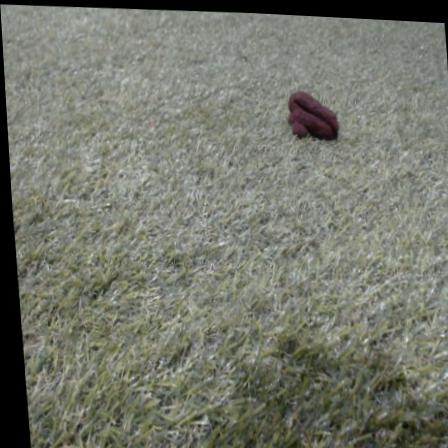dog-poop: (280, 79, 344, 140)
